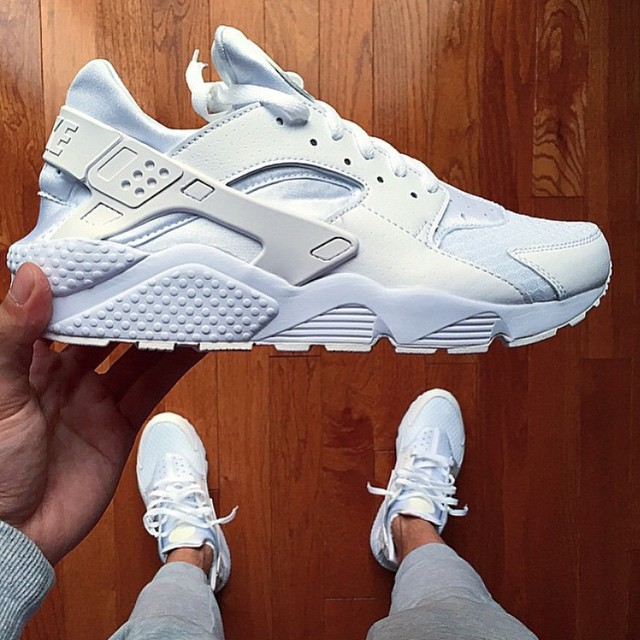sneaker: (115, 402, 262, 612), (361, 372, 480, 589)
